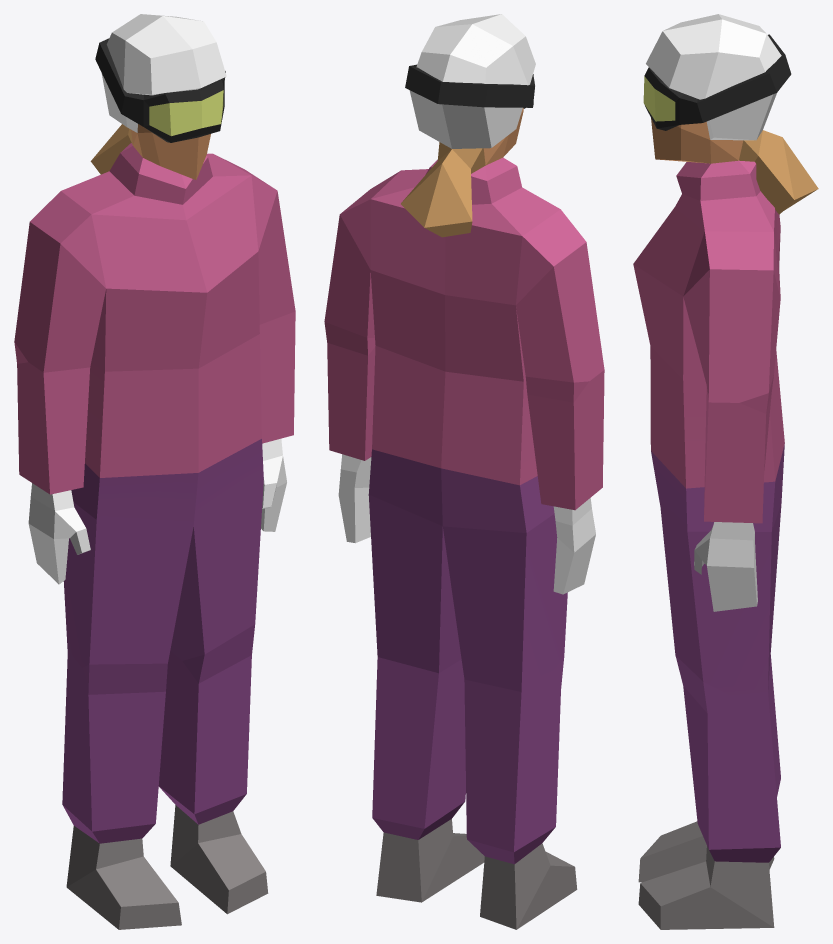
Rendered from people_woman-ski.fbx.
3 views of the same model, side by side, from view 1: azimuth 30°, elevation 25°; view 2: azimuth 150°, elevation 25°; view 3: azimuth 270°, elevation 25° (orthographic).
Parts seen in each view (by area): view 1: people_woman_ski; view 2: people_woman_ski; view 3: people_woman_ski.
Part boxes in pixels (x1,y1,x2,y2): people_woman_ski: (14, 14, 295, 929); people_woman_ski: (324, 14, 604, 929); people_woman_ski: (633, 14, 818, 929).
Bounding box in the file's own units: 60.39 × 200 × 38.46.
